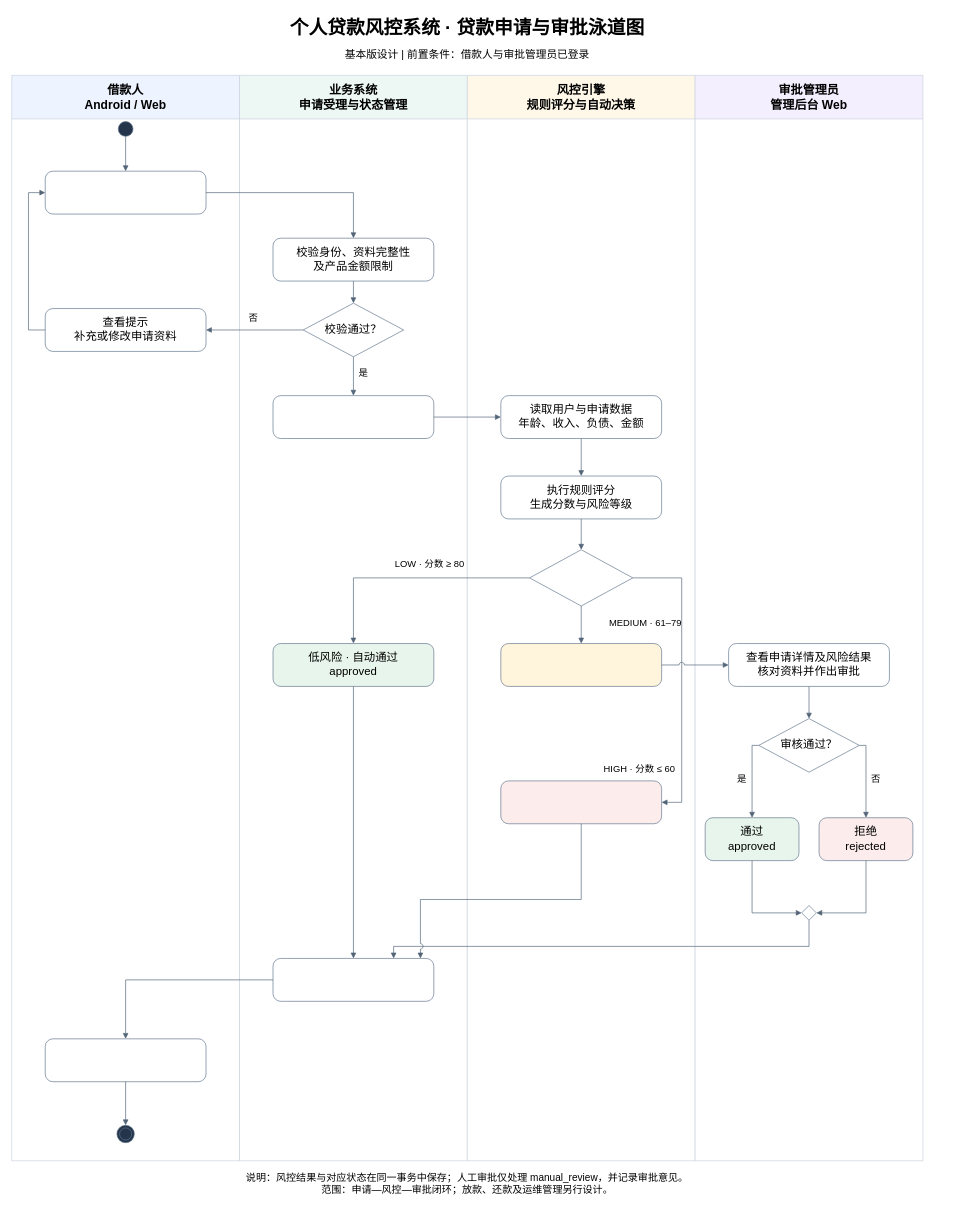
This 955x1225 diagram has some shape labels left out. Here are the shapes that lost their labels. From the top down, the centre of each, then its label:
At pixel 125 192: "选择贷款产品 填写资料并提交申请".
At pixel 353 417: "创建申请 状态：pending".
At pixel 581 577: "风险等级？".
At pixel 581 664: "中风险 · 转人工审核 manual_review".
At pixel 581 802: "高风险 · 自动拒绝 rejected".
At pixel 353 979: "保存最终审批结果与日志 更新申请终态".
At pixel 125 1060: "查询申请进度 查看审批结果及原因".
